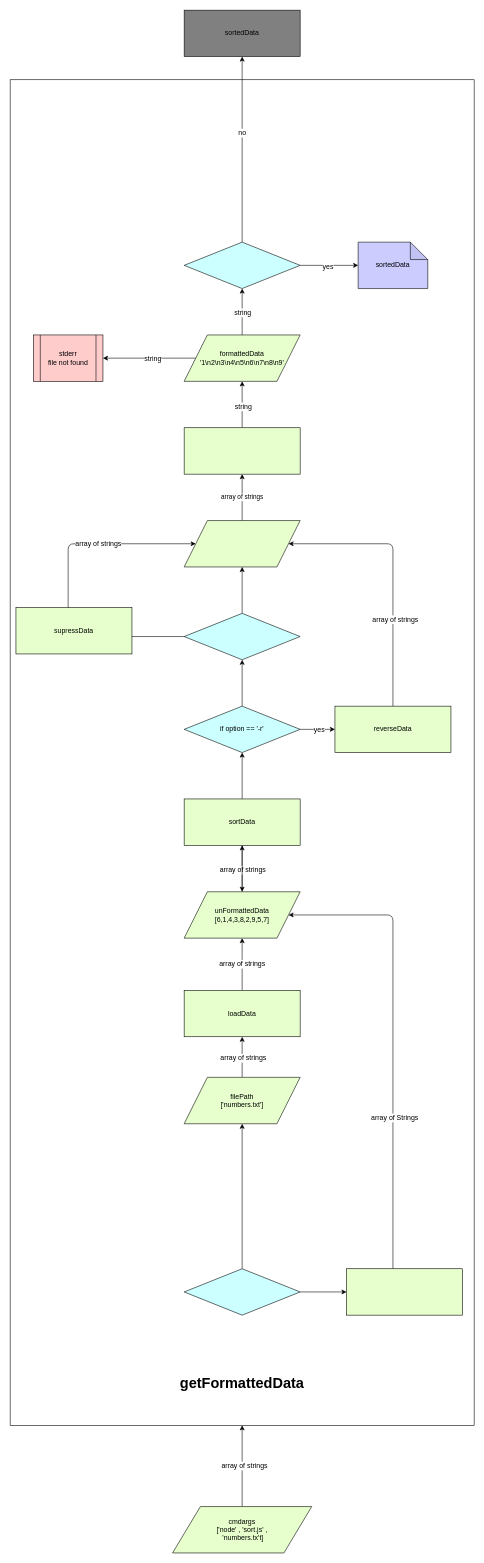
The diagram is 484 pixels wide and 1563 high, and some of its shapes have lost their labels. The shapes that lost their labels are listed below. From the top down, each one's centre as x and y in pixels, then its label:
At [242,265]: "if(option == '-o'".
At [242,450]: "formatData".
At [242,543]: "sortedData [1,2,3,4,5,6,7,8,9]".
At [242,636]: "if option == '-u'".
At [242,1291]: "if arguments length is equal to 0".
At [404,1291]: "getStandardInput".
